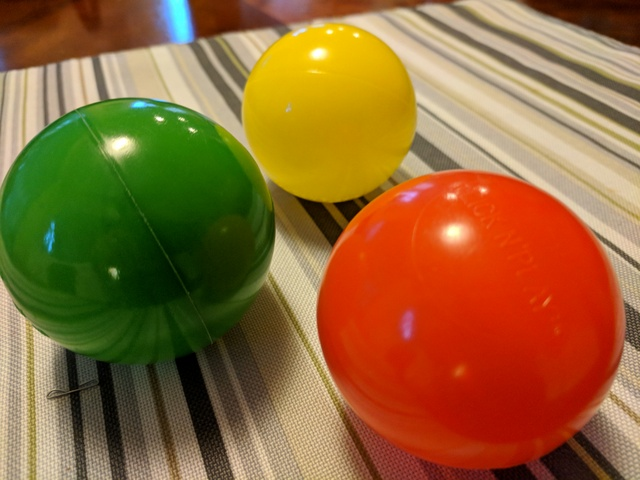ball: (315, 168, 631, 470)
